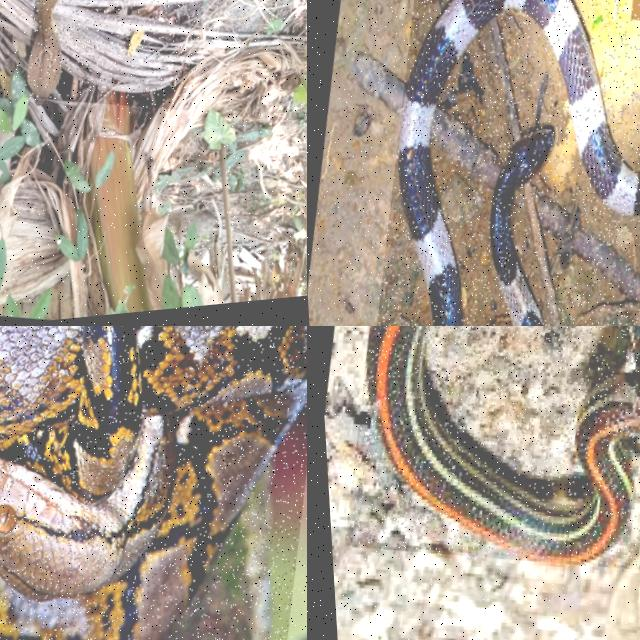Bungarus candidus: (399, 0, 639, 325)
Calliophis intestinalis: (367, 326, 639, 564)
Malayopython reticulatus: (0, 326, 306, 639)
Naja siamensis: (28, 0, 61, 99)
